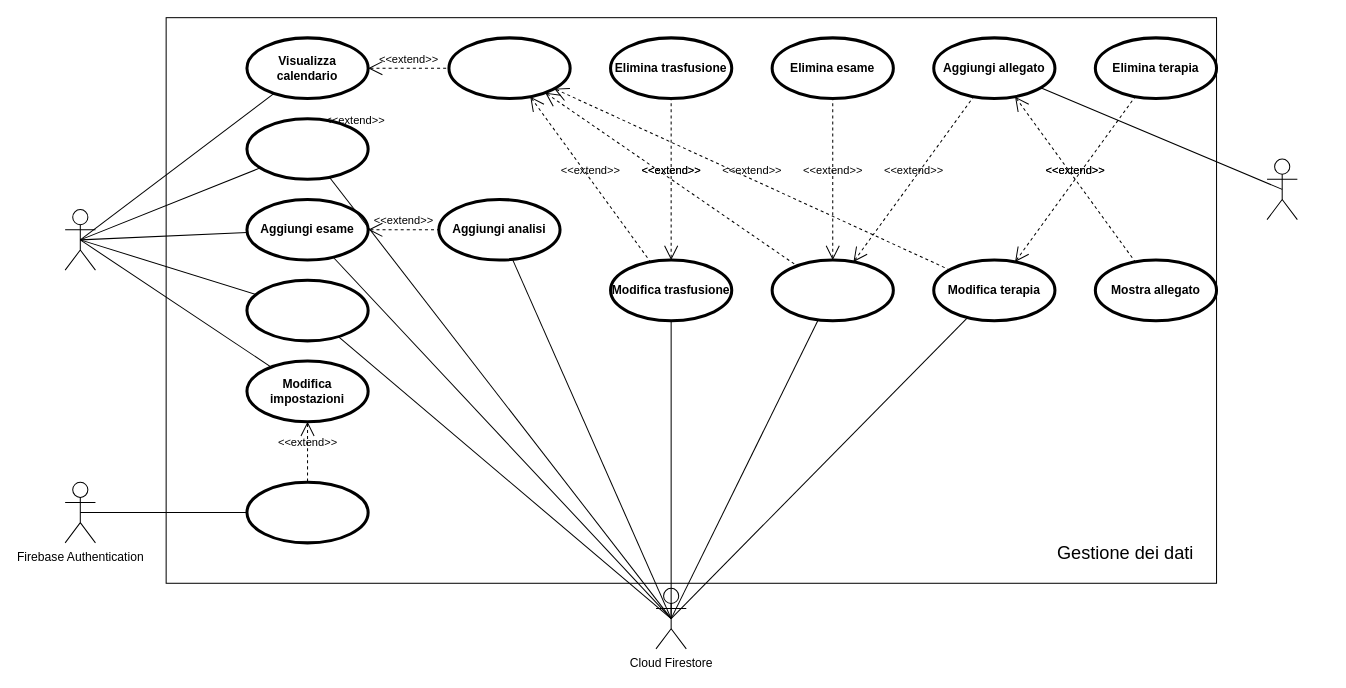
This 1346x688 diagram has some shape labels left out. Here are the shapes that lost their labels. From the top down, the centre of each, then its label:
At [509,67]: "Mostra eventi in un giorno specifico".
At [307,148]: "Aggiungi trasfusione".
At [1281,189]: "Firestore Storage".
At [79,239]: "Paziente".
At [307,310]: "Aggiungi terapia".
At [832,290]: "Modifica esame".
At [307,512]: "Esegui logout".
